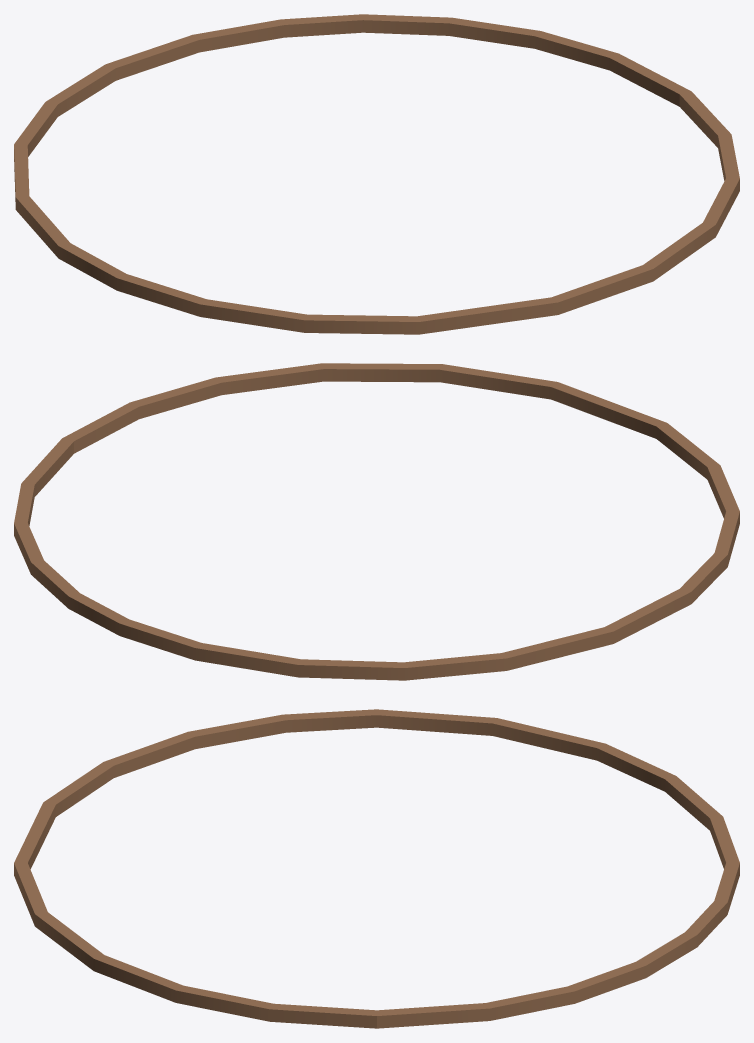
File: S_Metal_Stem_05.fbx
The picture shows the model from 3 angles, top to bottom: view 1: azimuth 30°, elevation 25°; view 2: azimuth 150°, elevation 25°; view 3: azimuth 270°, elevation 25°; orthographic projection.
Parts seen in each view (by area): view 1: S_Metal_Stem_05; view 2: S_Metal_Stem_05; view 3: S_Metal_Stem_05.
Boxes of the visible parts, x1,y1,x2,y2 form: S_Metal_Stem_05: (14, 14, 739, 334); S_Metal_Stem_05: (14, 363, 739, 680); S_Metal_Stem_05: (14, 709, 739, 1028).
Size of the model in its own units: 178 by 3.38 by 178.
